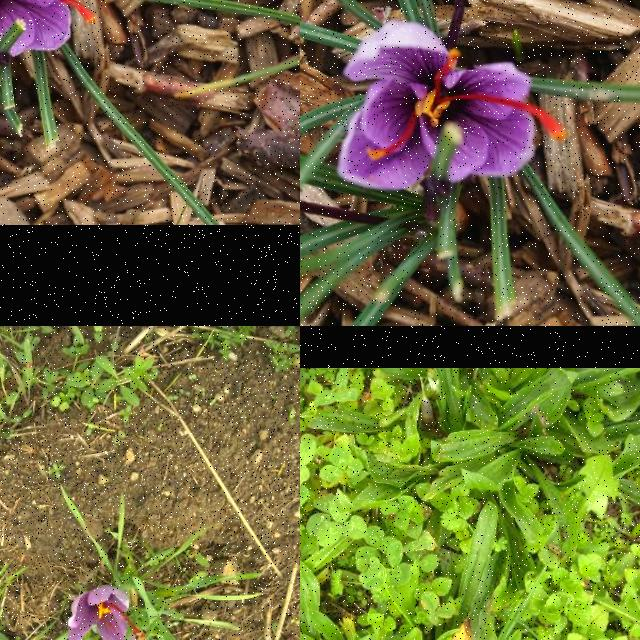flower: (336, 21, 564, 189), (0, 0, 95, 63), (68, 586, 146, 640)
